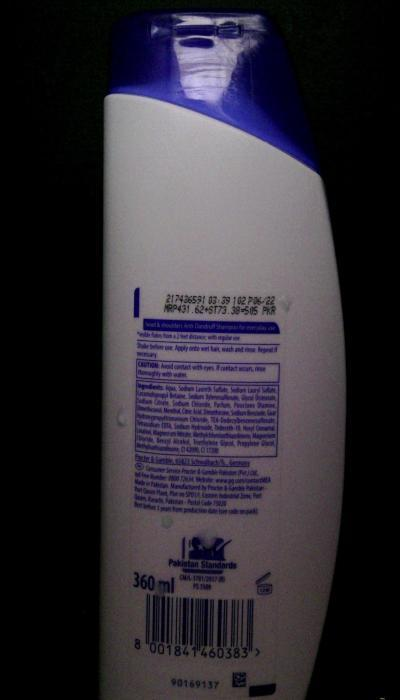pob_marg: (192, 524, 220, 554), (111, 402, 135, 433), (276, 289, 298, 321), (156, 506, 178, 534), (148, 578, 170, 600), (144, 21, 169, 40)
